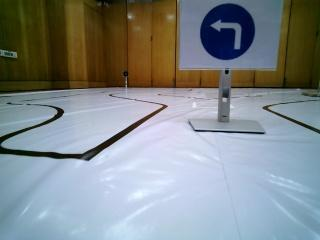left: (186, 3, 266, 68)
